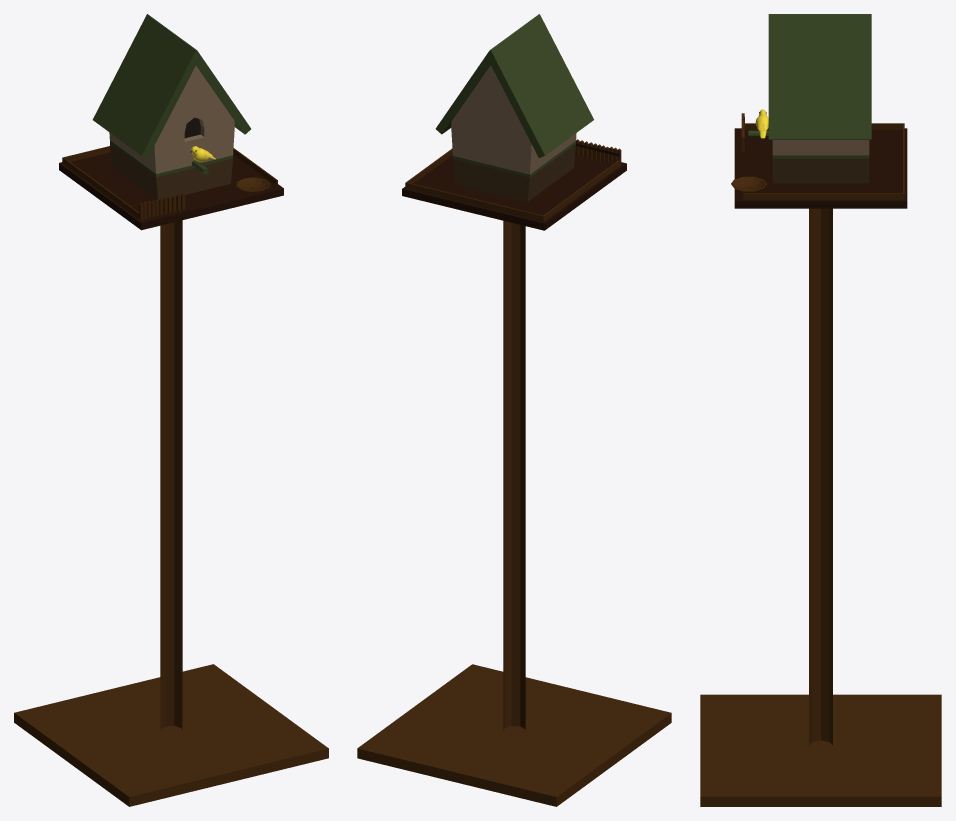
Rendered from BirdHouse.fbx.
The picture shows the model from 3 angles, left to right: view 1: azimuth 30°, elevation 25°; view 2: azimuth 150°, elevation 25°; view 3: azimuth 270°, elevation 25°; orthographic projection. The views are drawn at different scales.
Visible parts, largest first — view 1: Support, Bird House; view 2: Support, Bird House; view 3: Support, Bird House, Bowl.
Part boxes in pixels (x1,y1,x2,y2): Support: (14,220,328,806); Bird House: (59,14,283,230); Support: (357,221,671,806); Bird House: (402,14,626,230); Support: (700,208,941,806); Bird House: (734,14,907,208); Bowl: (731,176,766,191).
Bounding box in the file's own units: 61 × 207 × 61.
Materials: 1 (1 with a texture image).
